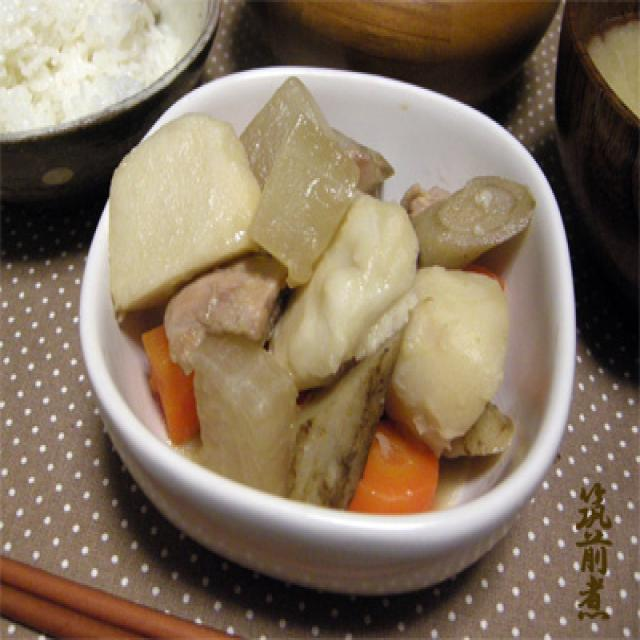鸡肉料理 含炸鸡: (113, 78, 532, 528)
